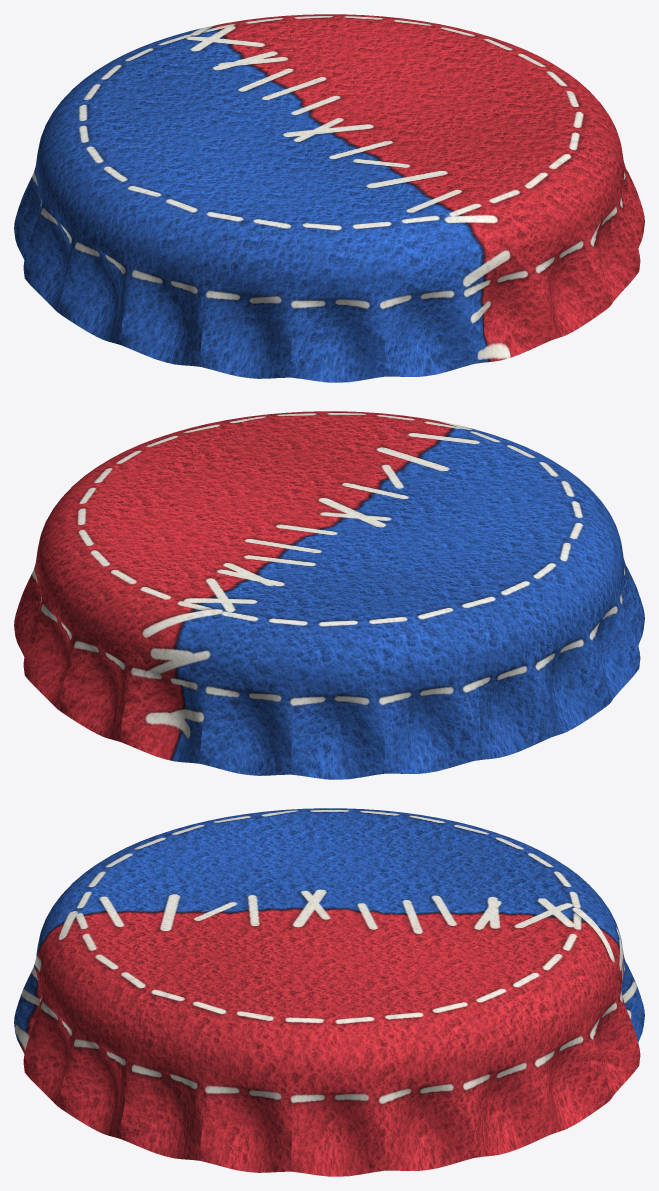
Rendered from szew.glb.
3 renders of one model, top to bottom at view 1: azimuth 30°, elevation 25°; view 2: azimuth 150°, elevation 25°; view 3: azimuth 270°, elevation 25°, orthographic.
Parts seen in each view (by area): view 1: Kapsel_LOD0_szew; view 2: Kapsel_LOD0_szew; view 3: Kapsel_LOD0_szew.
Boxes of the visible parts, x1=… form: Kapsel_LOD0_szew: x1=14, y1=14, x2=644, y2=382; Kapsel_LOD0_szew: x1=14, y1=411, x2=644, y2=779; Kapsel_LOD0_szew: x1=14, y1=808, x2=644, y2=1176.
Bounding box in the file's own units: 29.9 × 7 × 29.92.
Materials: 2 (2 with a texture image).
